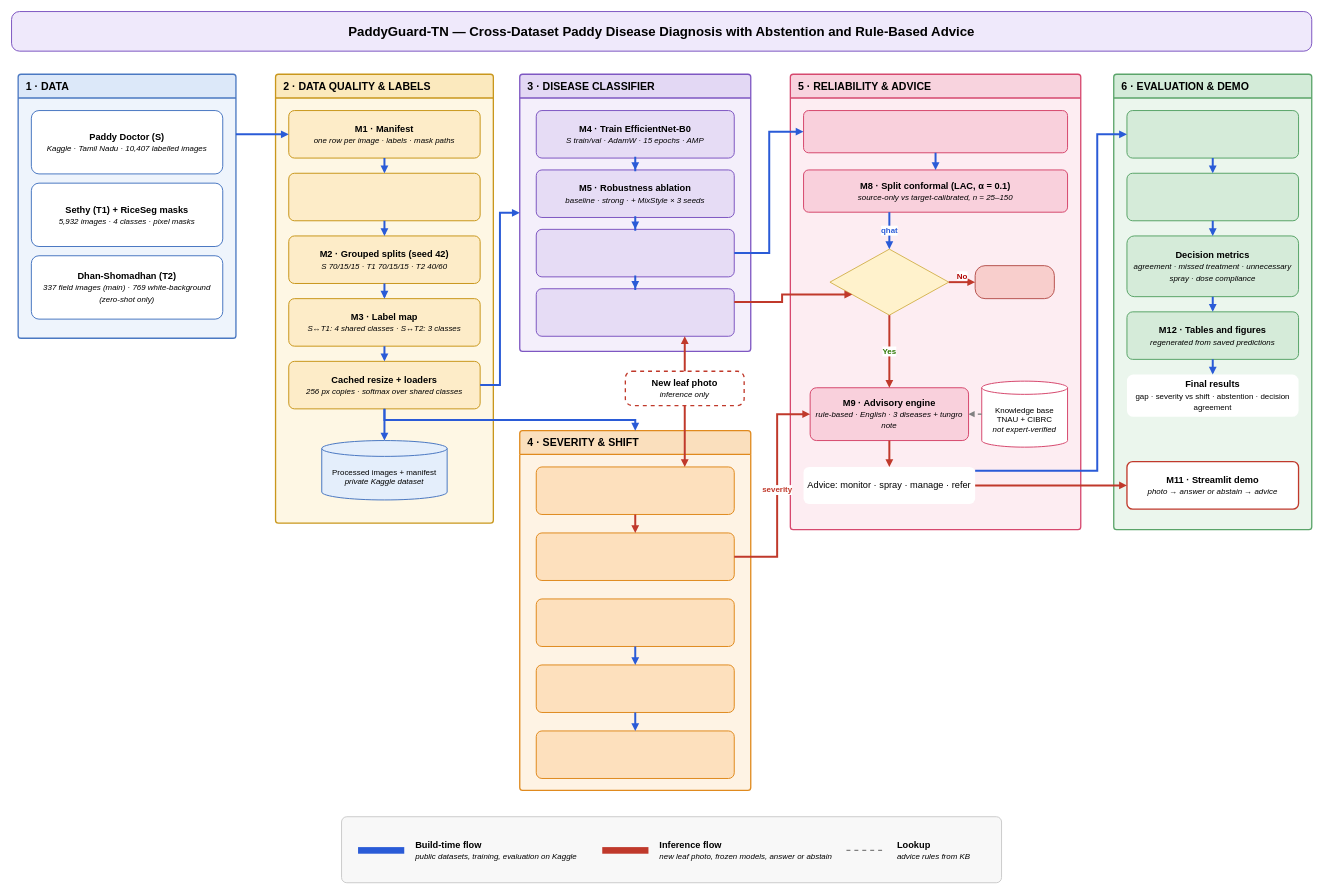
Some shapes in this 1324 by 895 pixel diagram are drawn without their labels. Each missing label, with the centre of its shape:
"Answer or abstain?" belongs at point 889,281.
"Best checkpoint (frozen) softmax over the shared classes only" belongs at point 634,312.
"Compare with baselines B1 fixed spray · B2 no abstention · B3 source-only" belongs at point 1212,196.
"Cross-dataset evaluation S→T1 · S→T2 · macro-F1 · bootstrap CI" belongs at point 634,253.
"M10 · Decision-level evaluation clean and shifted test sets · rule-derived truth" belongs at point 1212,134.
"M2 · Near-duplicate groups pHash ≤ 8 bits · drops cross-dataset copies" belongs at point 384,196.
"M6 · Leaf + lesion U-Net T1 + masks · ResNet34 · V0 plain · V1 paste aug." belongs at point 634,490.
"M7 · Simulated-shift composites Sethy leaf pasted on blurred field photo" belongs at point 634,622.
"M8 · Temperature scaling fitted on source validation logits" belongs at point 935,131.
"Refer to an officer" belongs at point 1014,282.
"Severity error by level MAE · Dice · band accuracy (V0 vs V1)" belongs at point 634,754.
"Severity per leaf 100 × lesion ∩ leaf ÷ leaf · bands from config" belongs at point 634,556.
"Shift levels S0 – S3 clean · background · mild · strong" belongs at point 634,688.
